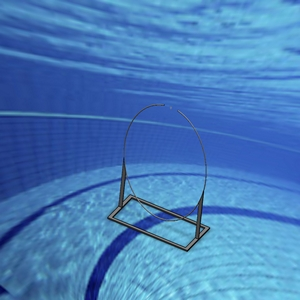circle: (106, 100, 214, 251)
